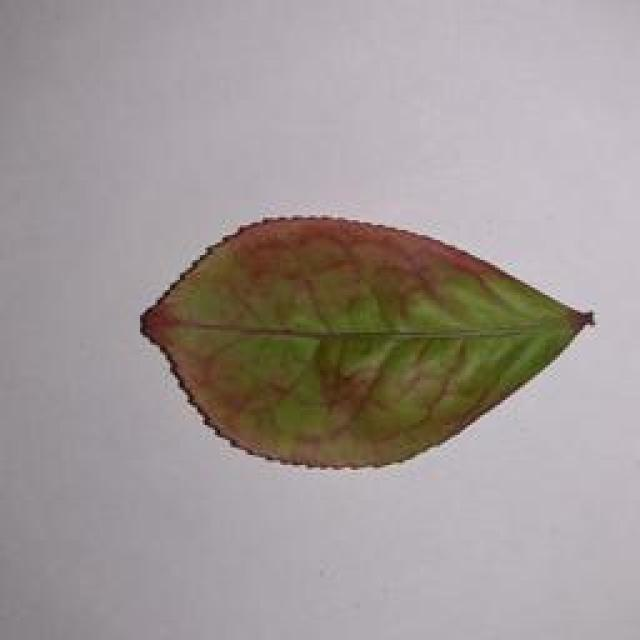Red Leaf Spot: (135, 204, 597, 478)
